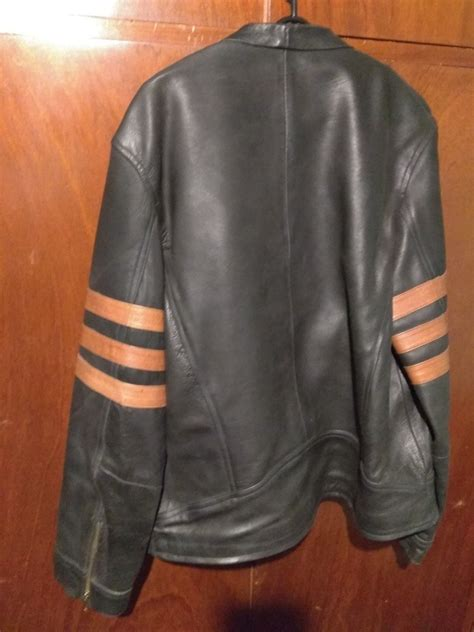cuero: (52, 19, 451, 619)
